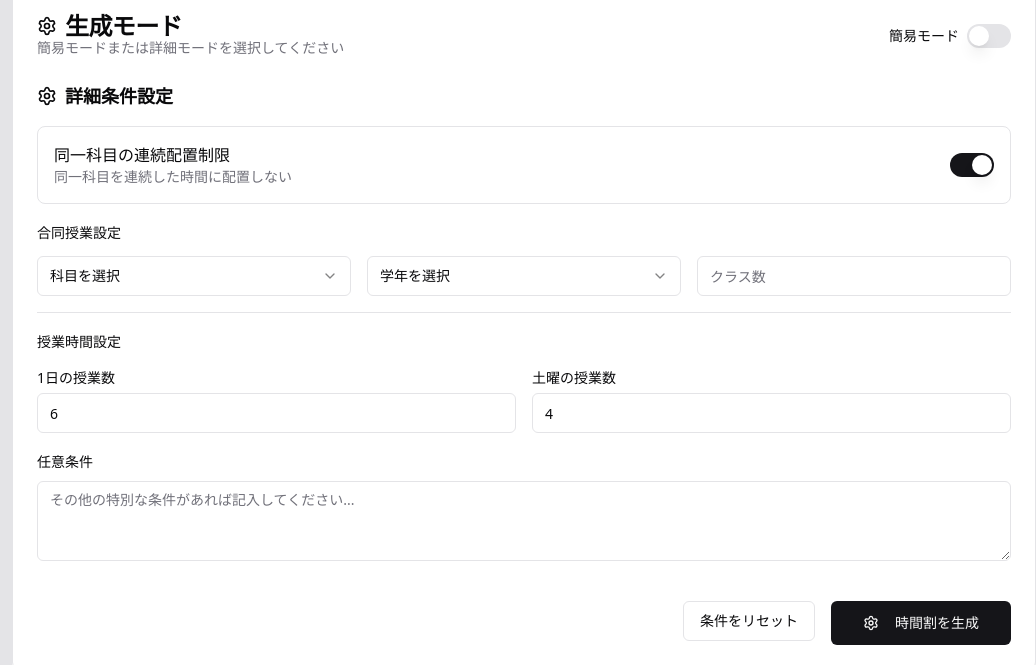
Test: TimetableGenerate › 時間割生成が正常に動作する
Click the button "時間割を生成".
click(921, 623)  # box x1=831 y1=601 x2=1011 y2=645
(page scrolled)
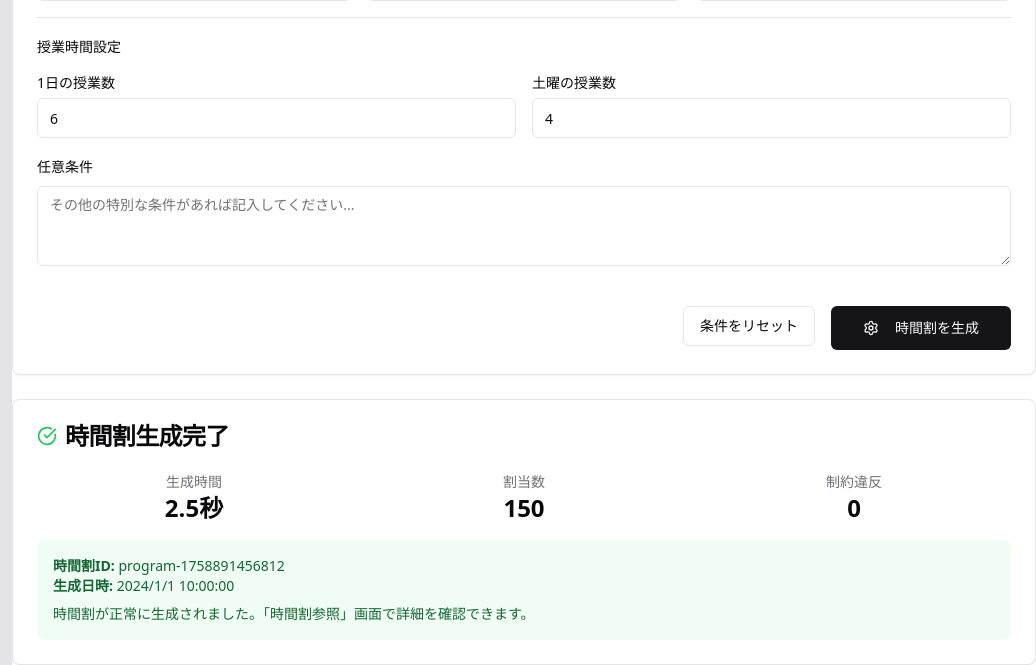
Result: the text "時間割生成完了" is shown at x1=65 y1=424 x2=229 y2=448
Result: the text "2.5秒" is shown at x1=165 y1=491 x2=223 y2=524
Result: the text "150" is shown at x1=503 y1=491 x2=545 y2=524
